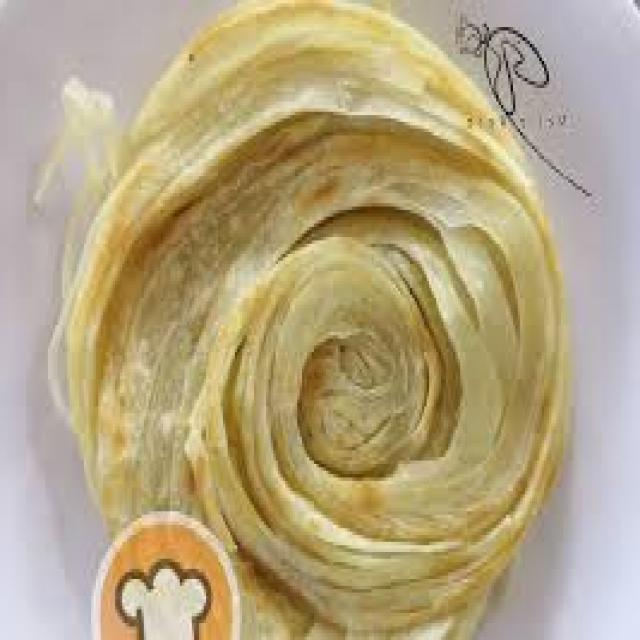Paratha: (49, 15, 566, 640)
